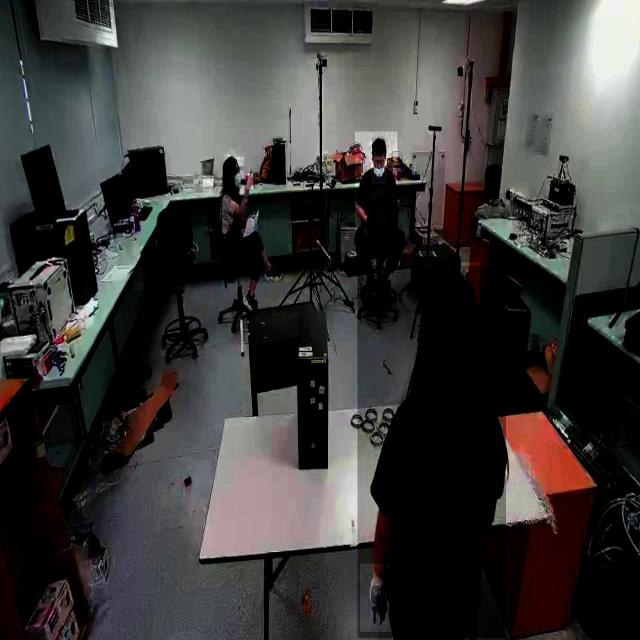face_mask: (230, 157, 244, 195), (372, 148, 386, 184)
hand_glove: (360, 563, 392, 633)
hand_noglove: (246, 173, 253, 190)
head_nohelmet: (422, 262, 480, 318), (372, 137, 388, 152), (223, 155, 240, 169)
person: (357, 266, 506, 639), (215, 154, 285, 316), (354, 132, 398, 236)
shoes: (265, 260, 285, 284)
